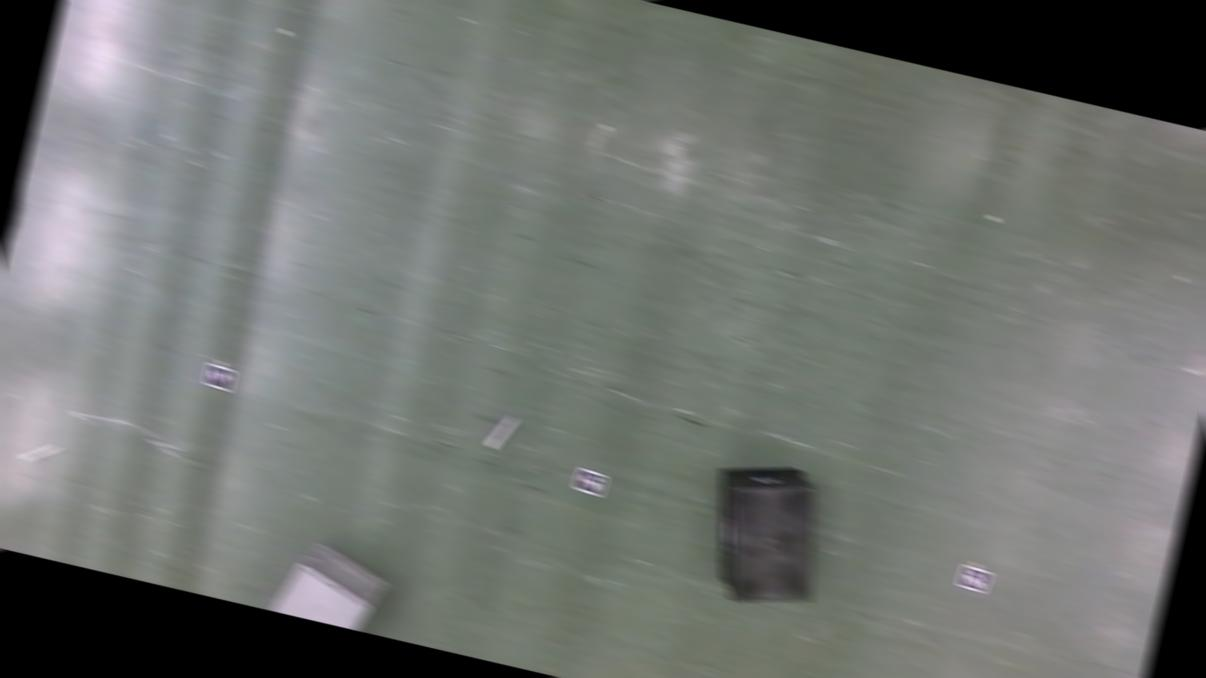probes: (484, 409, 516, 450), (22, 436, 60, 466)
rako: (692, 448, 840, 616), (268, 532, 394, 634)
